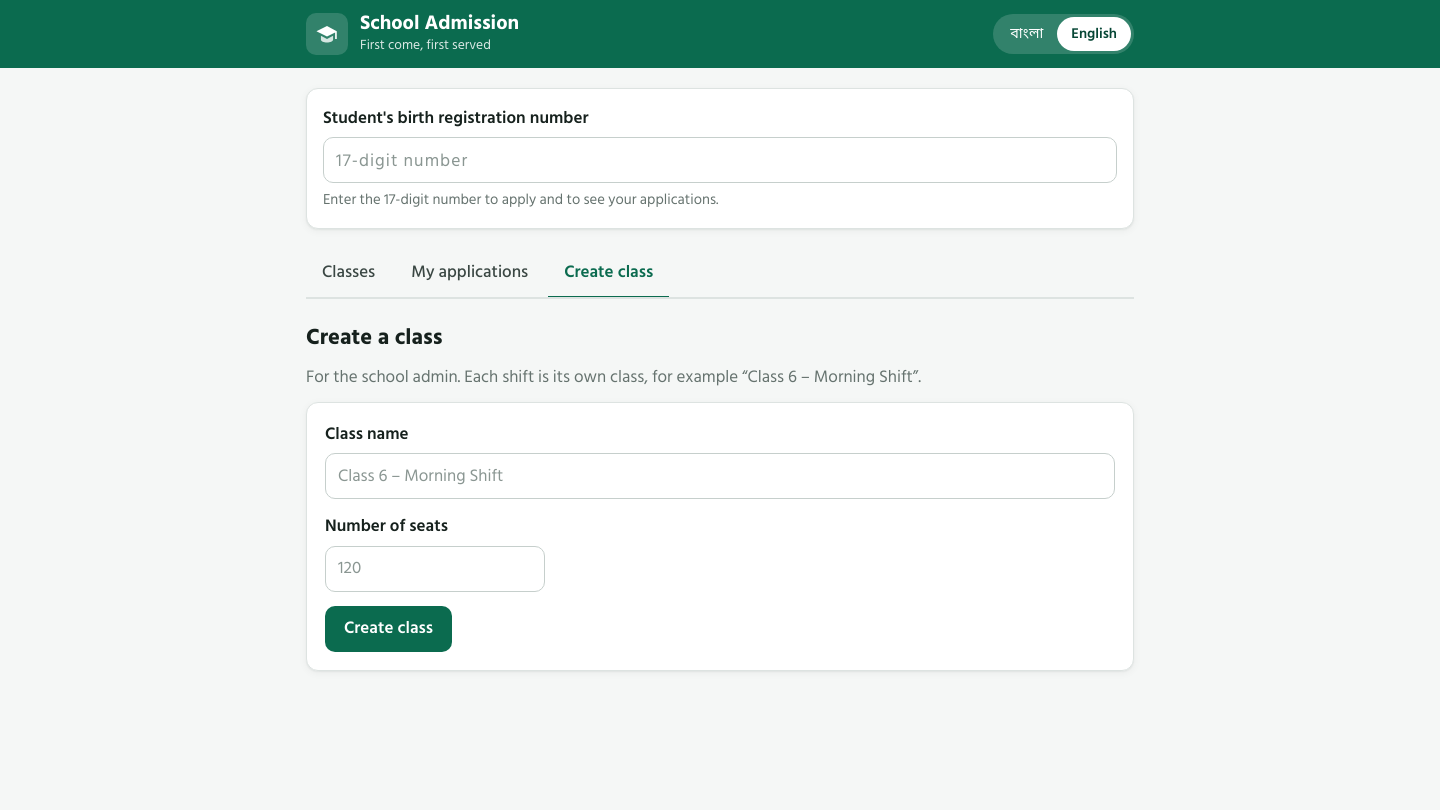
Test: school admin › rejects bad input with a clear message and creates a class from good input
The width and height of the screenshot is (1440, 810).
Click the button "Create class".
click(388, 629)  # box left=325, top=606, right=452, bottom=652
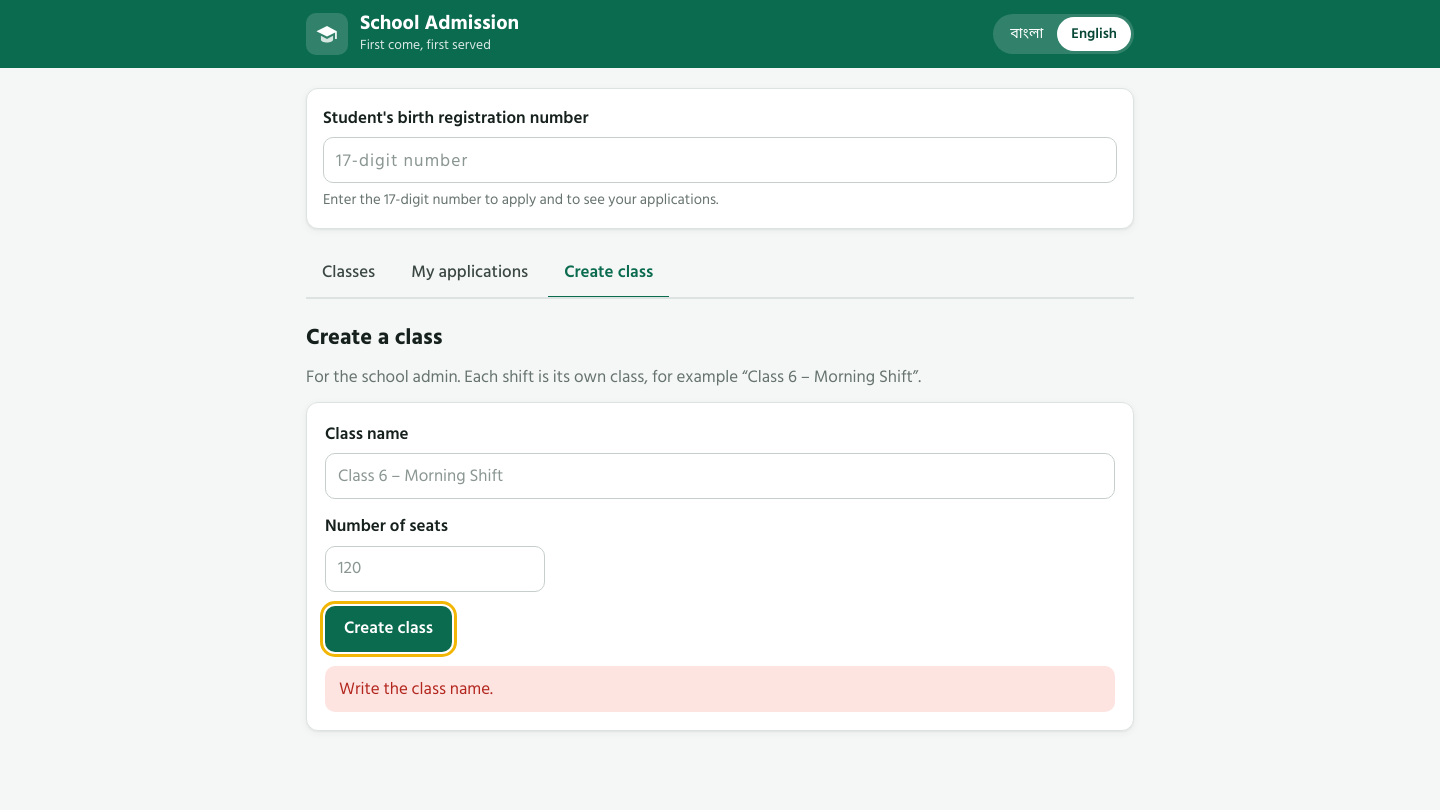
Now the message reads "Write the class name.", box left=339, top=675, right=493, bottom=703
Type "Class 6 - Morning Shift" into the field labelled "Class name".
click(720, 476); type("Class 6 - Morning Shift")  # box left=325, top=453, right=1115, bottom=499
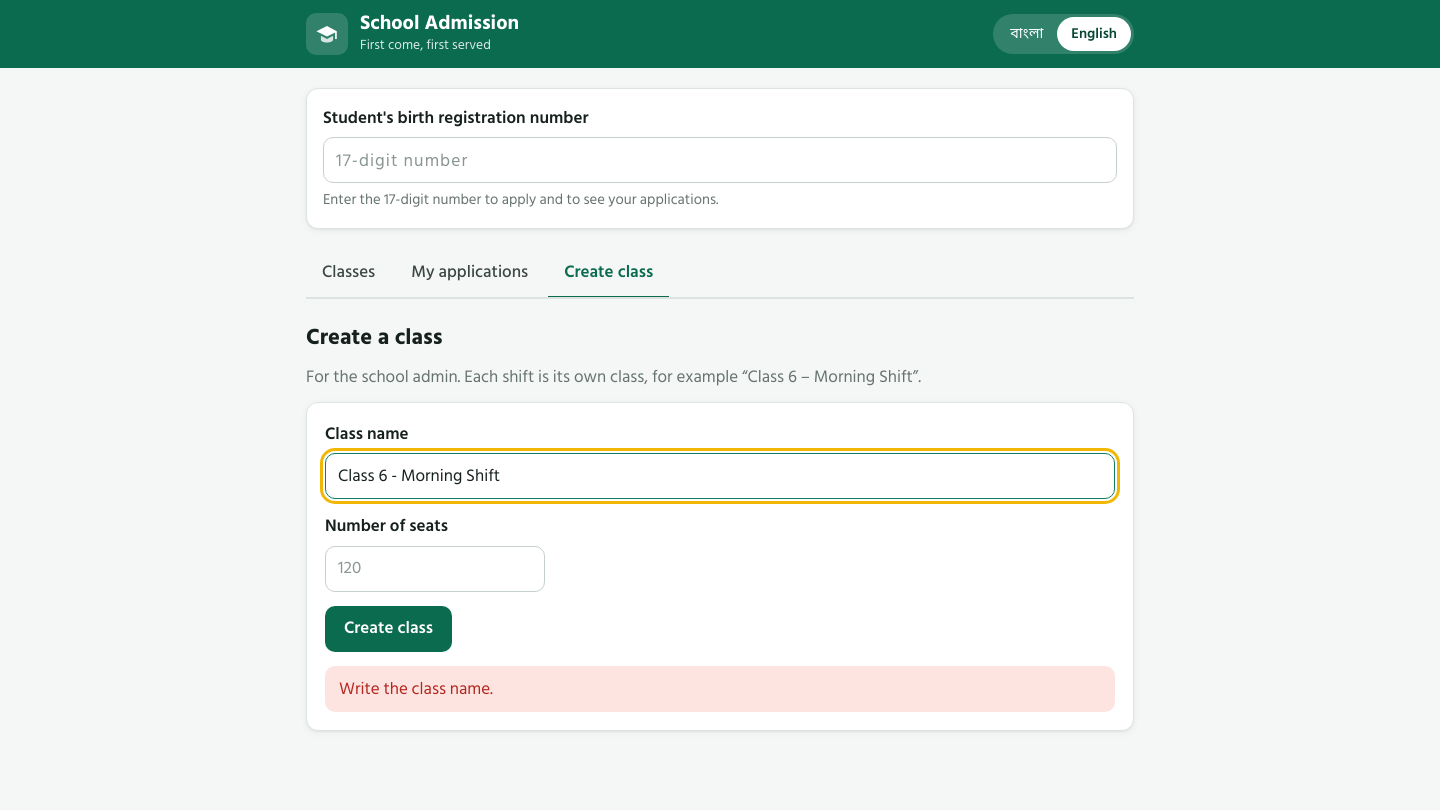
Type "0" into the field labelled "Number of seats".
click(435, 569); type("0")  # box left=325, top=546, right=545, bottom=592
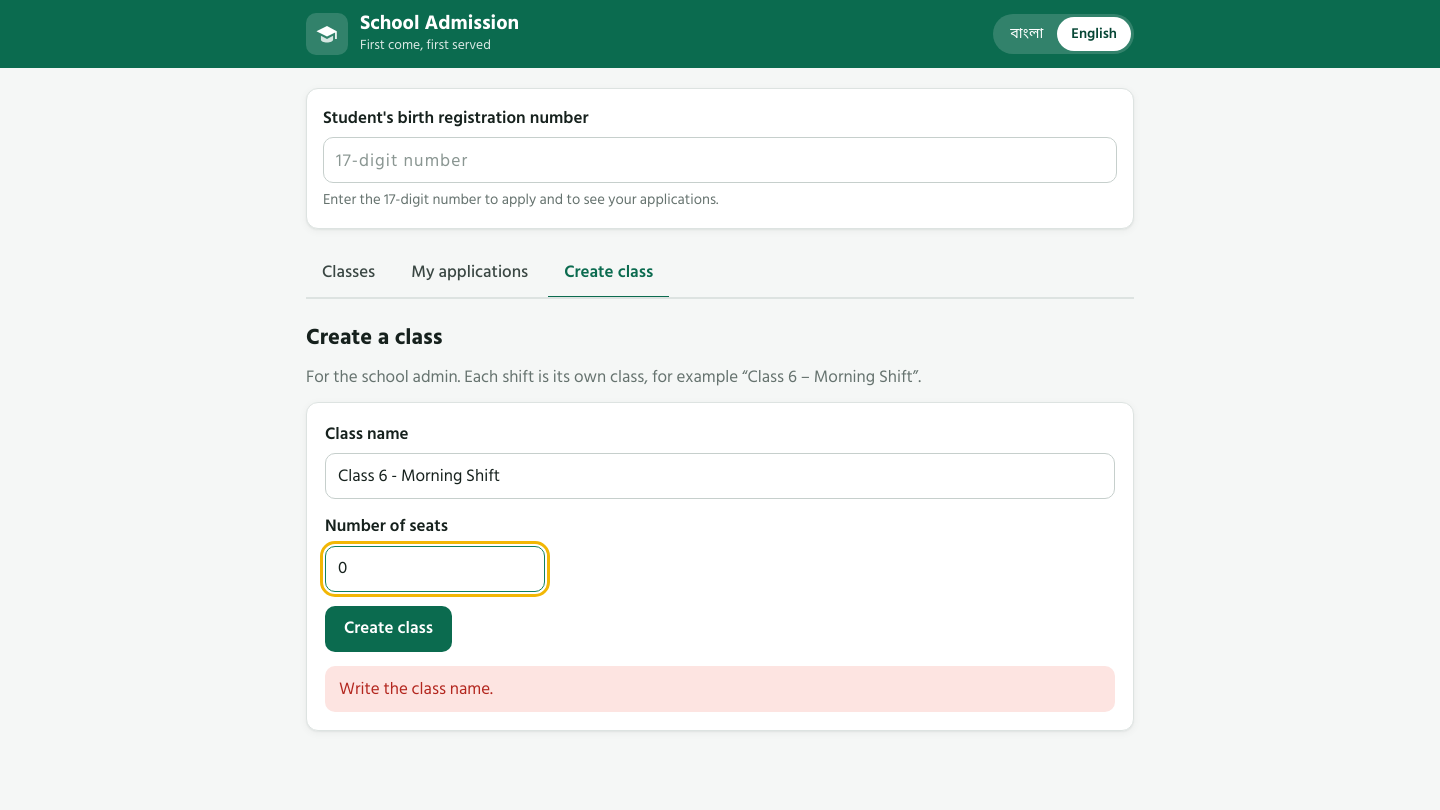
Click the button "Create class".
click(388, 629)  # box left=325, top=606, right=452, bottom=652
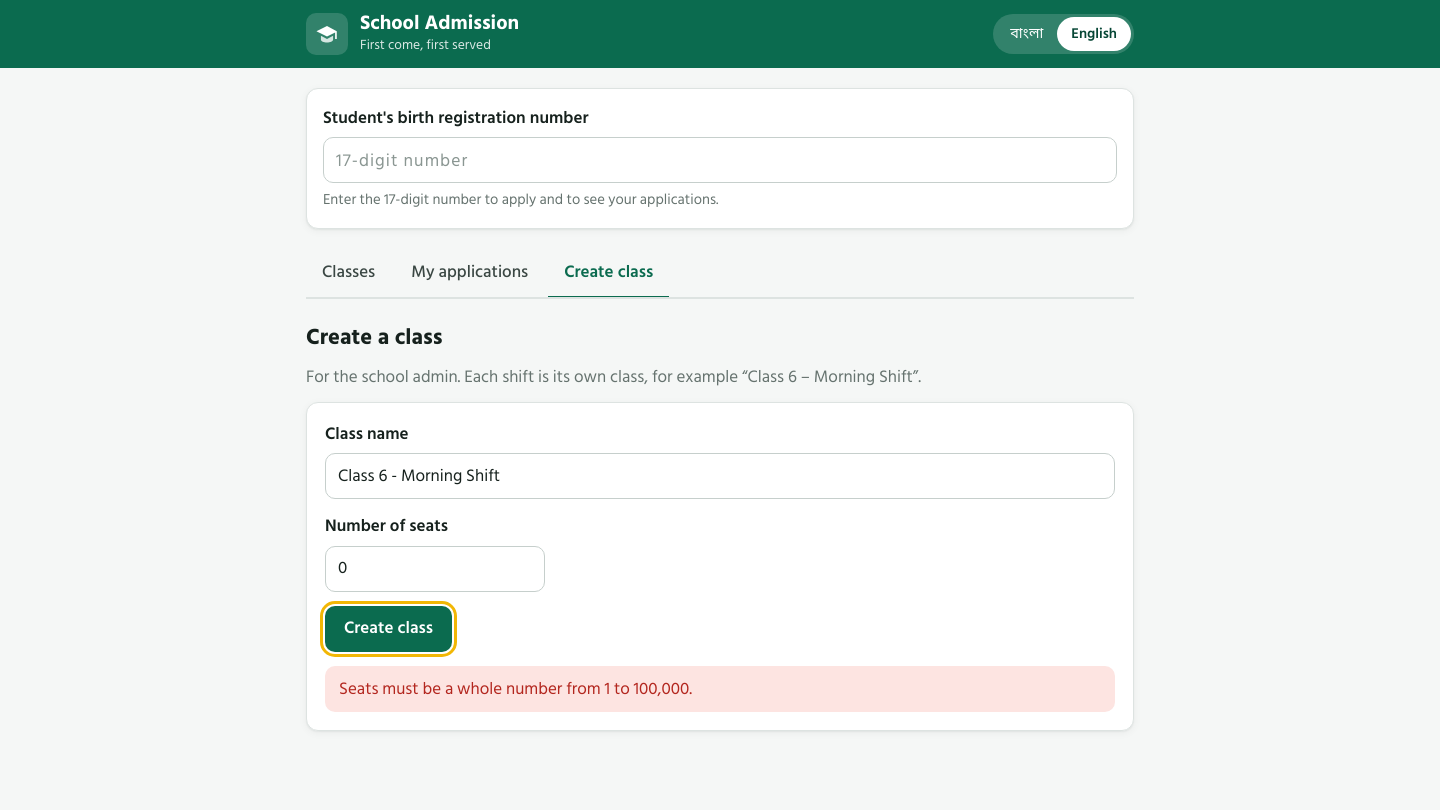
Now the message reads "Seats must be a whole number from 1 to 100,000.", box left=339, top=675, right=692, bottom=703
Replace the text in the field labelled "Number of seats" with "120" at (435, 569), box left=325, top=546, right=545, bottom=592
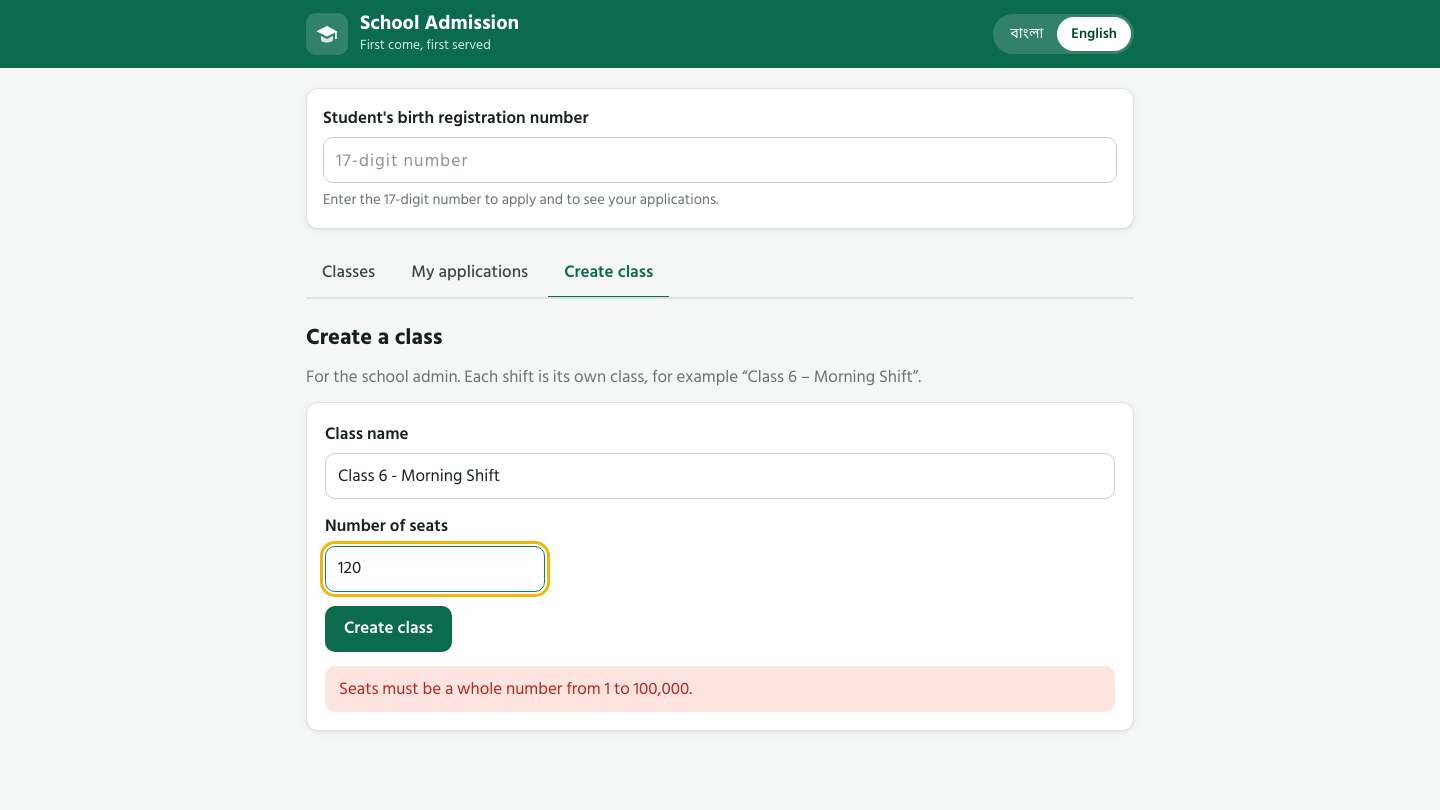
Click the button "Create class".
click(388, 629)  # box left=325, top=606, right=452, bottom=652
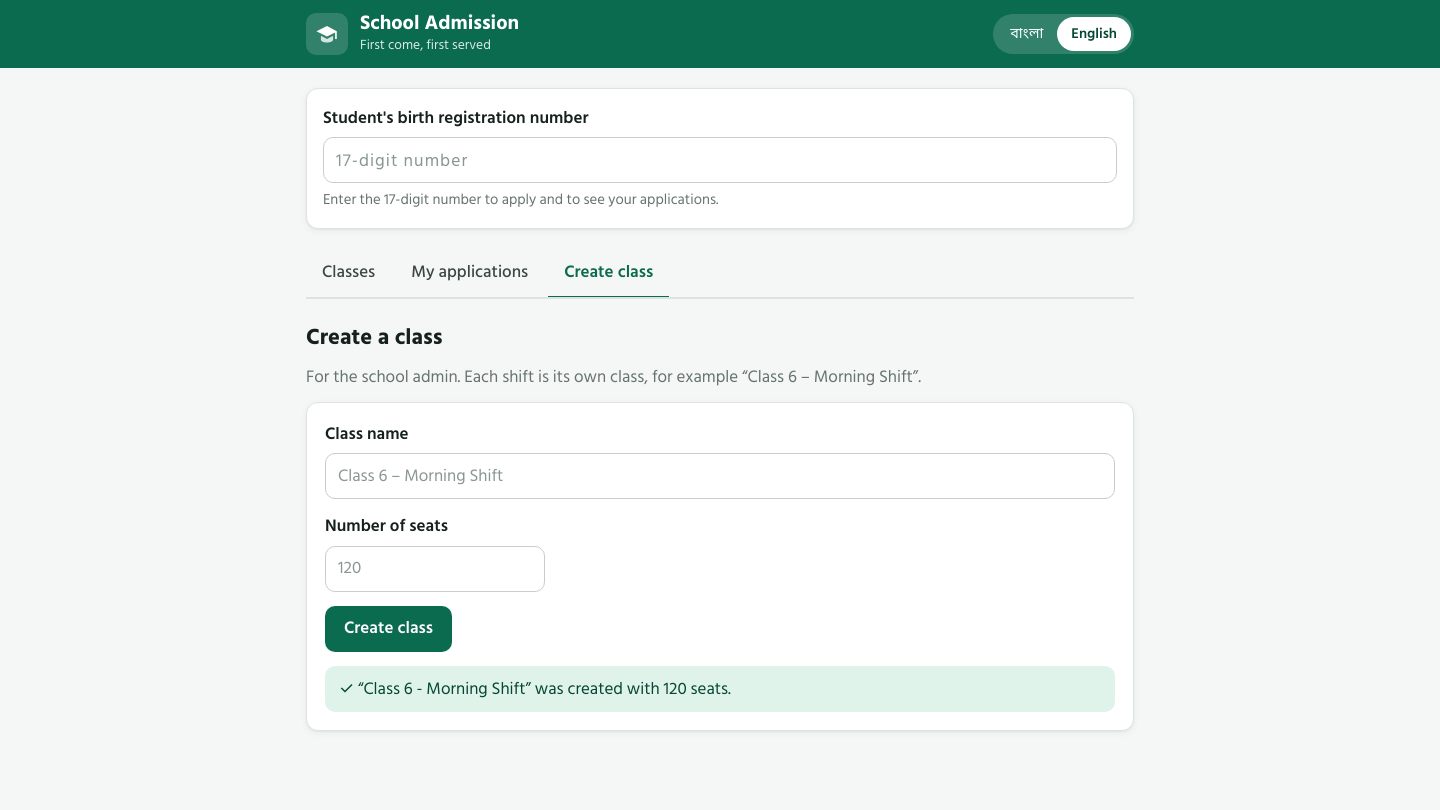
Now the text "✓ “Class 6 - Morning Shift” was created with 120 seats." is shown, box left=325, top=666, right=1115, bottom=712
